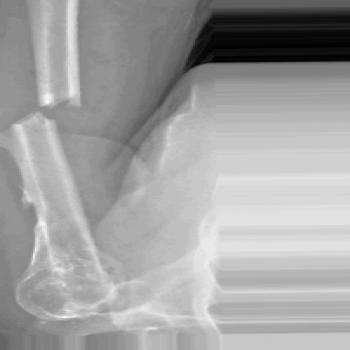Fracture: (0, 84, 104, 138)
